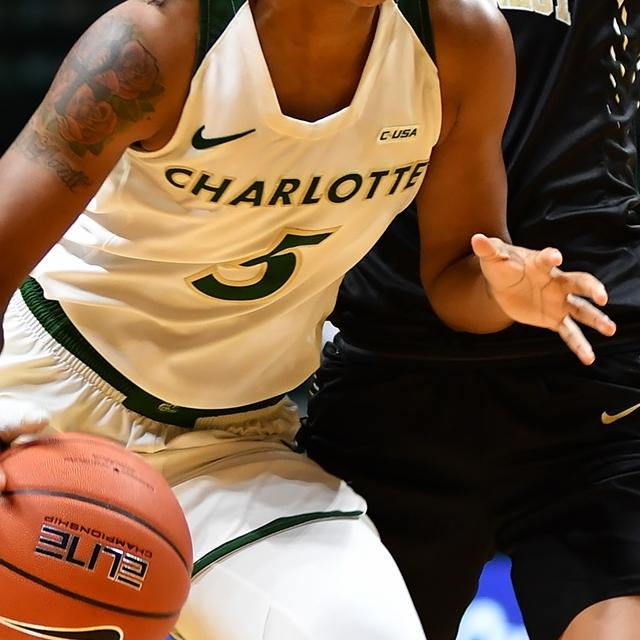basketball: (0, 416, 203, 640)
